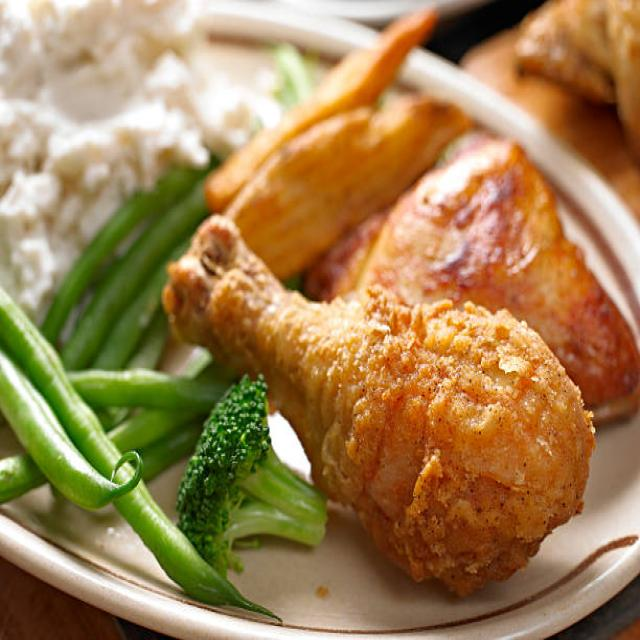Frango: (163, 111, 640, 596)
